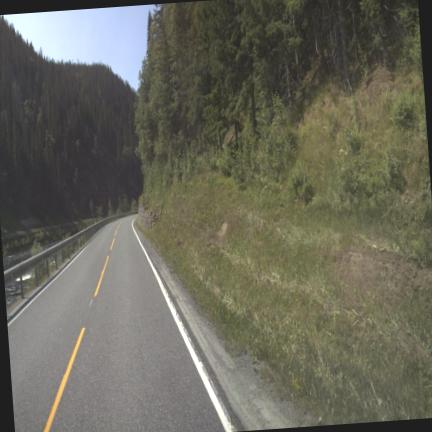Road: (7, 217, 229, 431)
